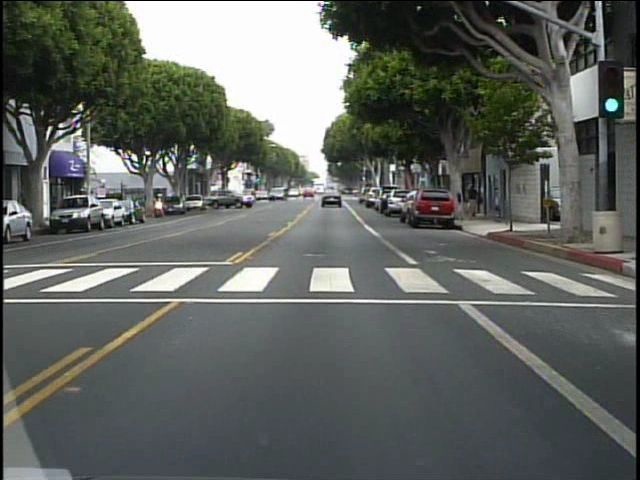person: (464, 182, 484, 223)
